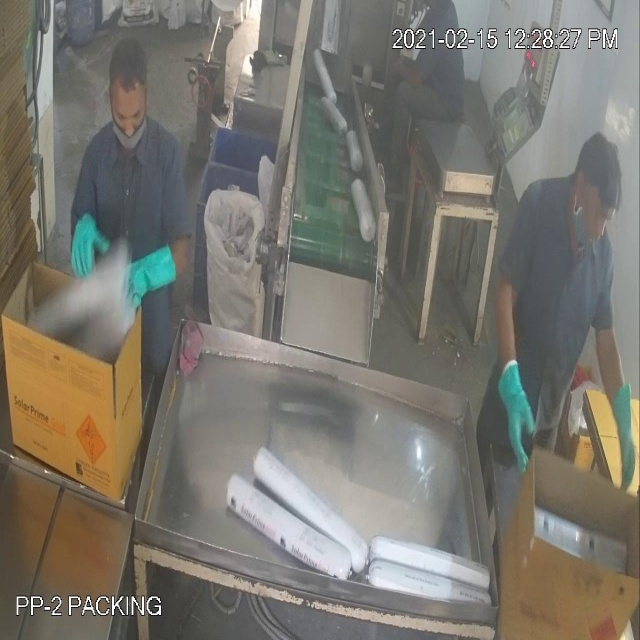Guantes: (589, 315, 639, 499), (493, 332, 544, 492), (115, 221, 198, 316), (58, 195, 118, 285)
Sin_guantes: (376, 43, 433, 97)
